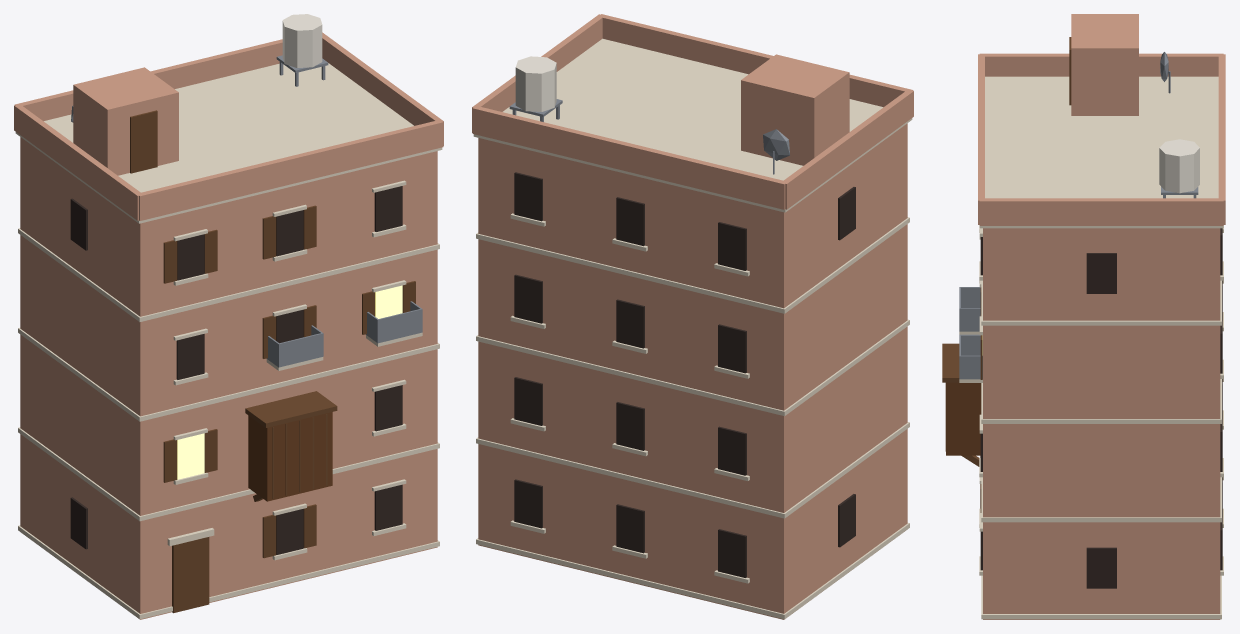
File: hus_kairo_2.glb
3 renders of one model, left to right at view 1: azimuth 30°, elevation 25°; view 2: azimuth 150°, elevation 25°; view 3: azimuth 270°, elevation 25°, orthographic. The views are drawn at different scales.
Visible parts, largest first — view 1: hus_kairo_2; view 2: hus_kairo_2; view 3: hus_kairo_2.
Part boxes in pixels (box(x1,y1,x2,y2)): hus_kairo_2: box(14, 14, 443, 619); hus_kairo_2: box(472, 14, 913, 619); hus_kairo_2: box(942, 14, 1225, 619).
Size of the model in its own units: 10.3 by 15.25 by 8.35.
